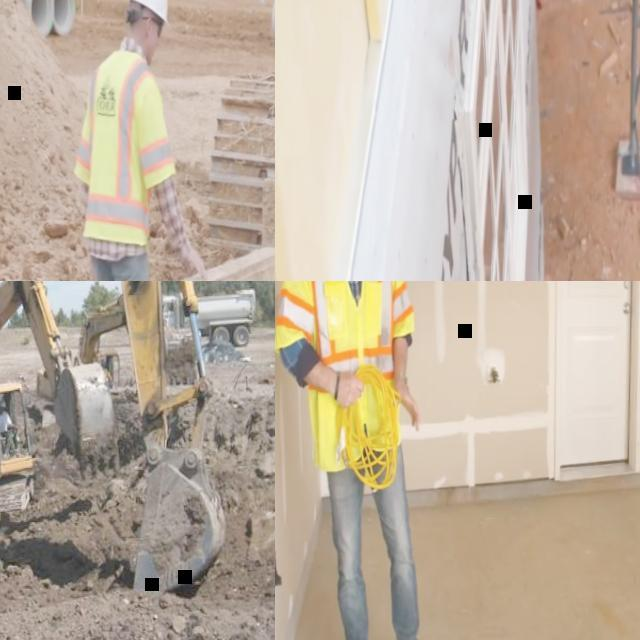helmet: (126, 0, 169, 23), (0, 400, 5, 407)
vest: (74, 57, 175, 231), (275, 281, 416, 390)
